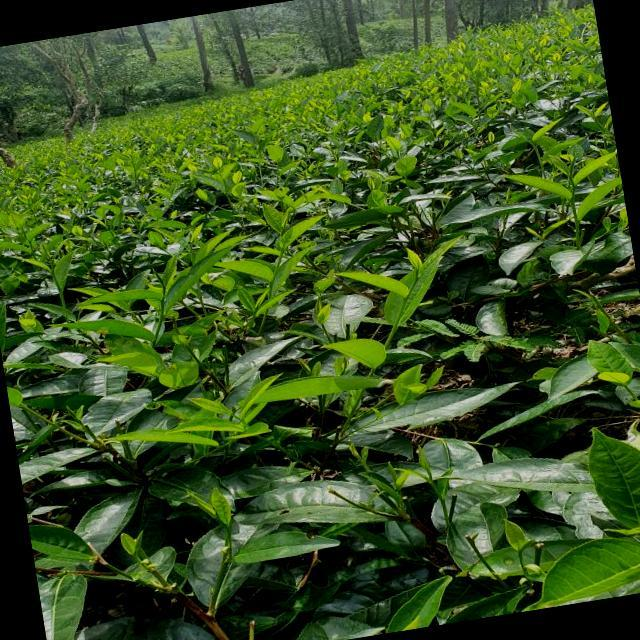Stem: (218, 565, 229, 582), (430, 482, 441, 495), (398, 299, 407, 314), (51, 272, 58, 282), (278, 249, 284, 259), (569, 176, 575, 185), (161, 302, 164, 318)
